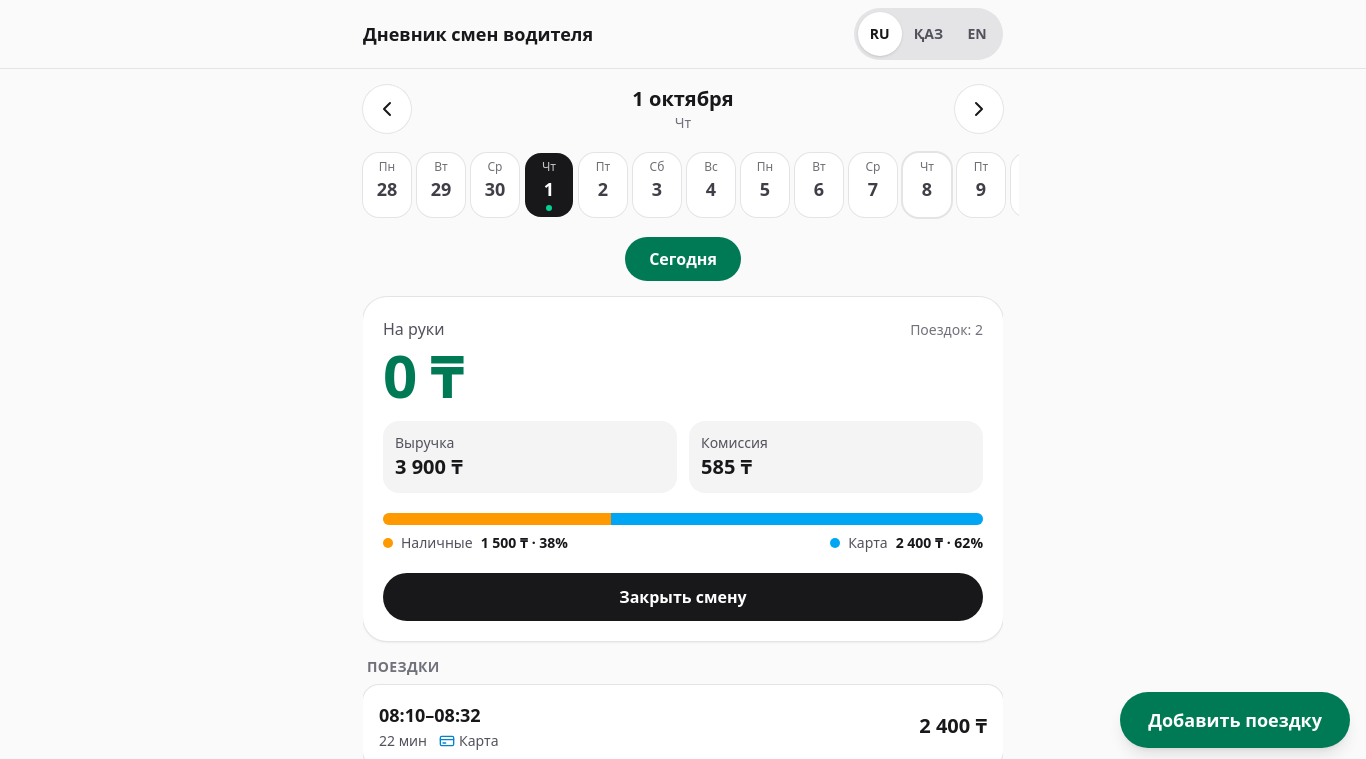
Test: main screen › next-day arrow requests the next date and shows the empty state
Click the button named "Следующий день" at (979, 109), box left=955, top=85, right=1003, bottom=133
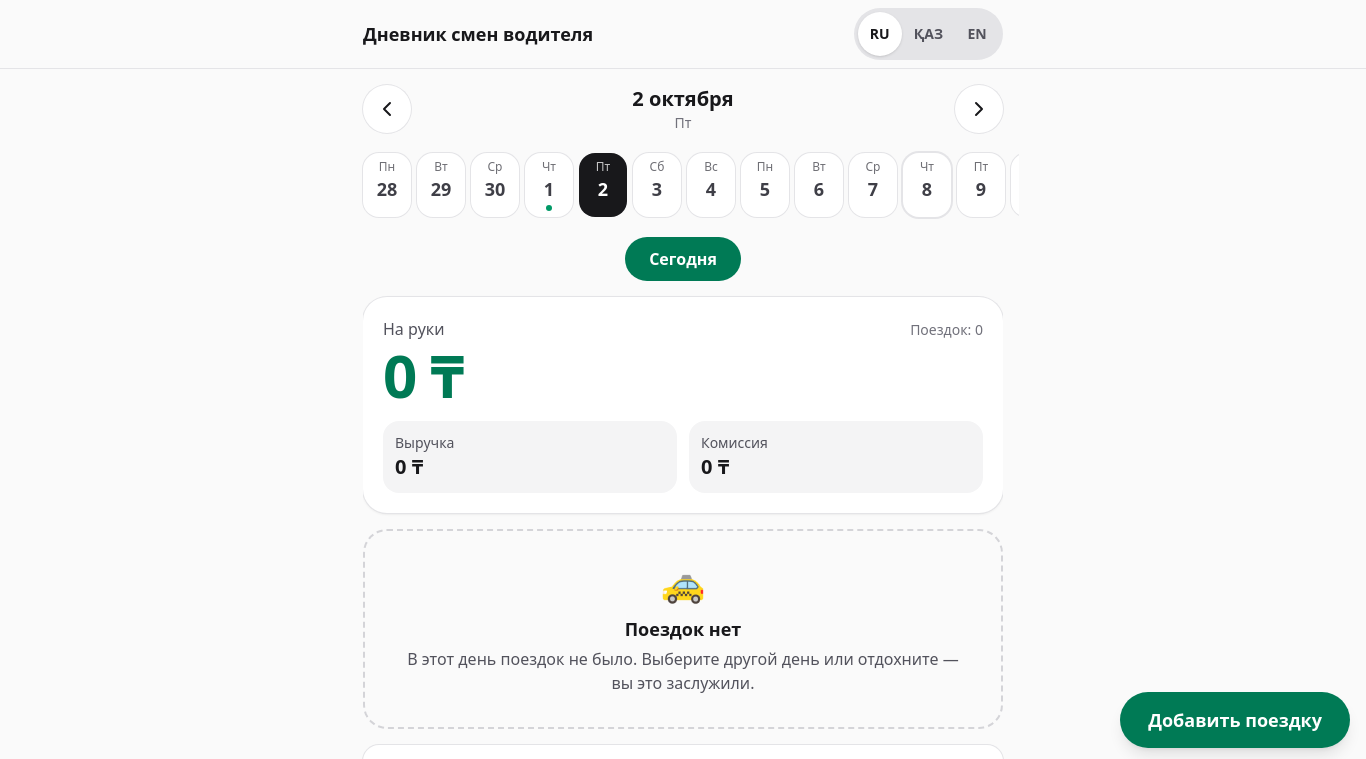
expect the text "Поездок нет" is shown: met, box left=625, top=617, right=741, bottom=641
